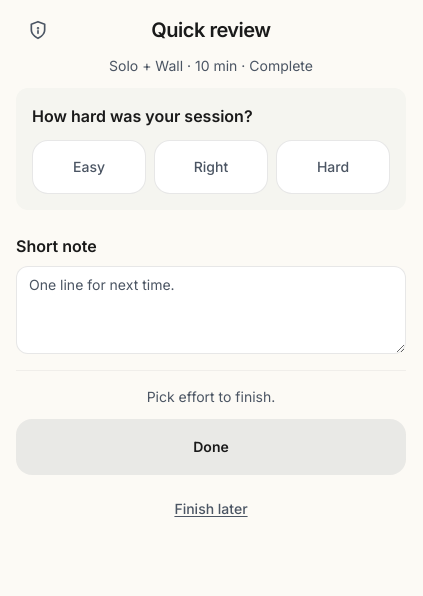
ReviewScreen Finish Later (C-1 Unit 8) › Finish later surfaces an error and stays on the screen when the draft patch rejects (rel-4 fix)
Expected: the heading "Quick review" is shown, [151,16,271,44]
Click the radio button labelled "Right" at (211, 167), box [154,140,268,194]
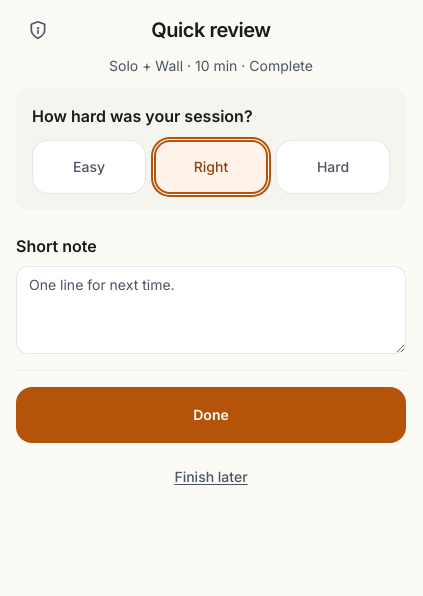
Click the button "Finish later" at (211, 477), box [162,455,260,499]
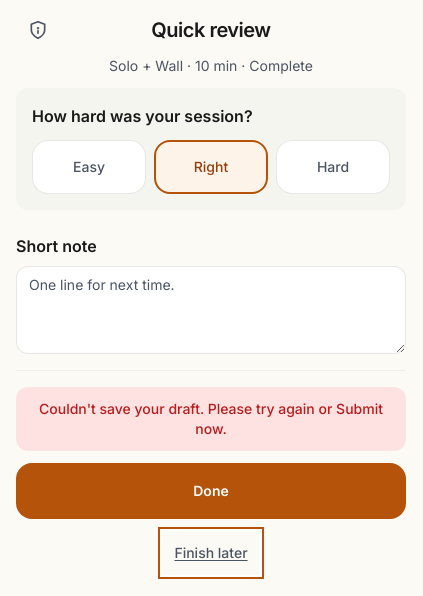
Now the text "Couldn't save your draft. Please try again or Submit now." is shown, box [16,387,406,451]
